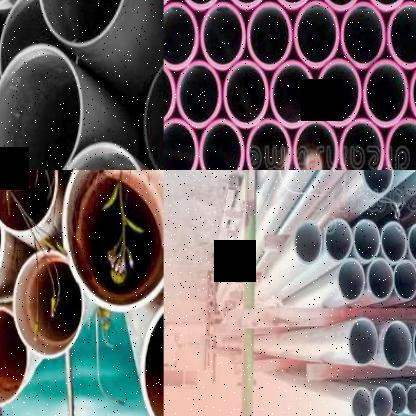pipe: (63, 170, 164, 313), (0, 44, 83, 169), (13, 250, 84, 359), (0, 0, 83, 82), (38, 0, 130, 48), (0, 170, 58, 234), (200, 2, 247, 71), (223, 61, 269, 129), (317, 59, 363, 127), (176, 61, 222, 128), (247, 3, 293, 70), (294, 2, 340, 69), (340, 1, 386, 68), (271, 61, 316, 129), (363, 60, 408, 128), (0, 306, 30, 407), (139, 55, 164, 170), (292, 117, 339, 170), (198, 119, 245, 170), (245, 119, 291, 170), (339, 118, 384, 170), (164, 2, 198, 70), (386, 1, 416, 69), (0, 122, 38, 170), (164, 119, 198, 170), (385, 118, 416, 170), (382, 321, 412, 370), (348, 317, 378, 365), (294, 219, 323, 265), (324, 218, 353, 262), (338, 258, 365, 302), (353, 219, 380, 261), (367, 258, 393, 301), (381, 221, 407, 263), (393, 260, 416, 301), (361, 170, 394, 195), (164, 60, 176, 128), (0, 169, 5, 309), (350, 386, 372, 416), (372, 386, 392, 416), (390, 383, 408, 415), (318, 0, 364, 11), (364, 0, 409, 11), (409, 59, 416, 127), (177, 0, 224, 10), (269, 0, 315, 10), (224, 0, 269, 10), (407, 222, 416, 264), (405, 383, 416, 416), (414, 320, 416, 366)
